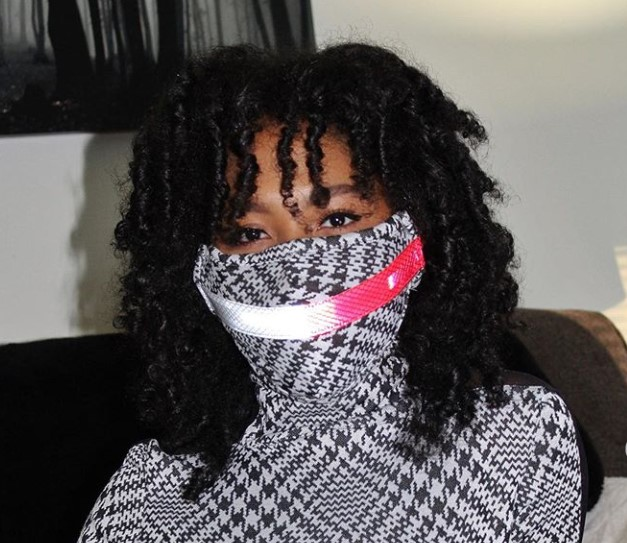face_with_mask: (182, 64, 427, 397)
